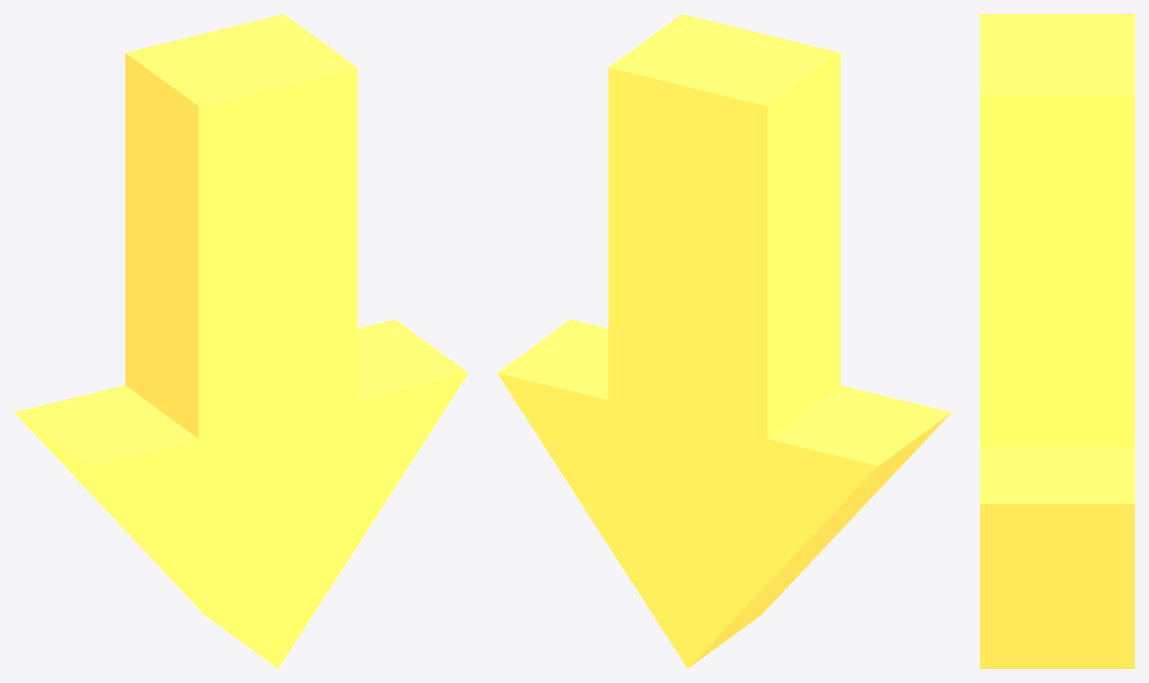
Rendered from Weight.glb.
3 renders of one model, left to right at view 1: azimuth 30°, elevation 25°; view 2: azimuth 150°, elevation 25°; view 3: azimuth 270°, elevation 25°, orthographic. The views are drawn at different scales.
Visible parts, largest first — view 1: Weight_Arrow; view 2: Weight_Arrow; view 3: Weight_Arrow.
Boxes of the visible parts, <box> form: Weight_Arrow: <box>14,14,468,668</box>; Weight_Arrow: <box>497,14,951,668</box>; Weight_Arrow: <box>980,14,1134,668</box>.
Size of the model in its own units: 0.24 by 0.35 by 0.08.
